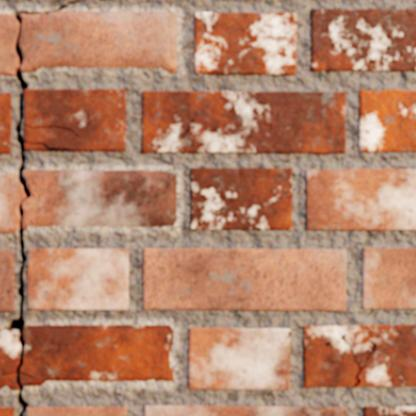brick: (143, 91, 345, 154), (144, 249, 346, 310), (303, 325, 415, 387), (305, 169, 415, 230), (312, 9, 415, 71), (195, 12, 296, 74), (191, 168, 292, 230), (25, 89, 126, 151), (188, 328, 290, 389), (28, 249, 128, 309), (360, 90, 415, 152), (363, 249, 415, 308), (145, 406, 347, 415), (0, 251, 14, 311), (27, 407, 127, 415), (0, 93, 11, 153), (364, 407, 415, 415), (0, 408, 14, 415), (26, 145, 45, 150)
broken_brick: (20, 11, 178, 73), (23, 170, 178, 232), (21, 325, 174, 386), (0, 172, 24, 233), (0, 14, 17, 76), (0, 329, 18, 372), (0, 375, 17, 390)
crack: (0, 0, 83, 415), (341, 333, 378, 387), (285, 331, 291, 339)
